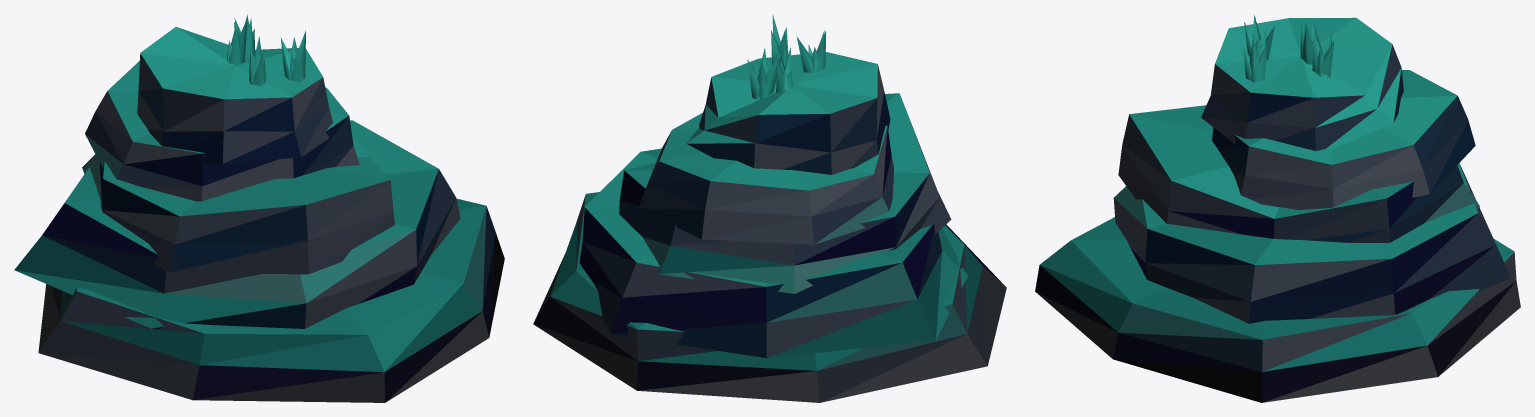
Rendered from batu_slate_basalt_944322.glb.
3 views of the same model, side by side, from view 1: azimuth 30°, elevation 25°; view 2: azimuth 150°, elevation 25°; view 3: azimuth 270°, elevation 25° (orthographic). The views are drawn at different scales.
Parts seen in each view (by area): view 1: Batu_Pipih_Bertumpuk; view 2: Batu_Pipih_Bertumpuk; view 3: Batu_Pipih_Bertumpuk.
Part boxes in pixels (bbox=[...]): Batu_Pipih_Bertumpuk: bbox=[14, 14, 504, 402]; Batu_Pipih_Bertumpuk: bbox=[533, 14, 1006, 402]; Batu_Pipih_Bertumpuk: bbox=[1035, 14, 1520, 402].
Size of the model in its own units: 5.18 by 3.12 by 5.07.
